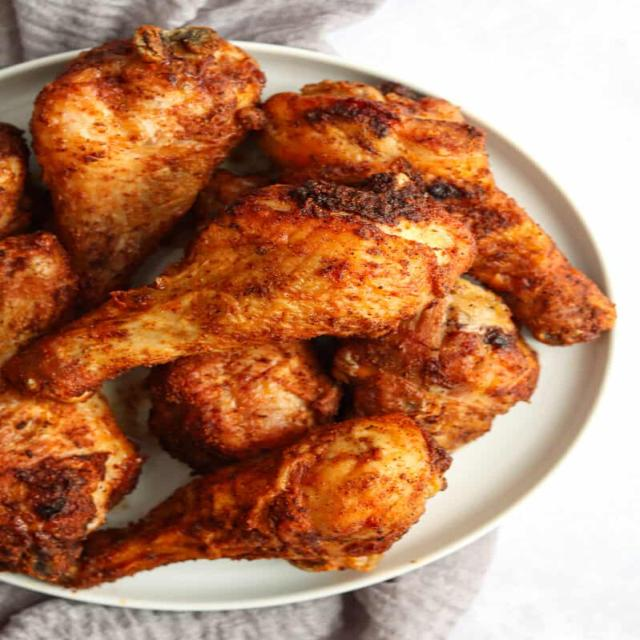Frango: (0, 18, 618, 596)
